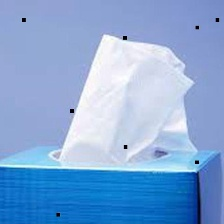book: (0, 140, 224, 223)
tissue: (55, 30, 202, 171)
